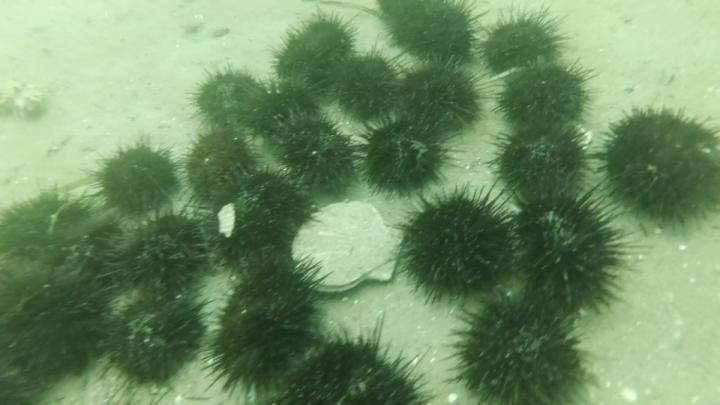echinus: (198, 249, 329, 404), (509, 188, 653, 323), (447, 287, 599, 405), (593, 105, 720, 234), (395, 183, 523, 309), (272, 316, 440, 405), (200, 160, 319, 281), (93, 293, 212, 404), (99, 207, 216, 309), (350, 104, 467, 203), (2, 288, 106, 385), (491, 118, 598, 210), (1, 186, 122, 263), (88, 129, 185, 223), (493, 56, 600, 135), (1, 248, 99, 334), (271, 110, 363, 200), (394, 53, 488, 139), (173, 127, 263, 210), (267, 9, 362, 86), (478, 4, 570, 79), (328, 40, 410, 123), (387, 1, 483, 66), (188, 60, 272, 134), (236, 78, 324, 140), (1, 348, 42, 405), (375, 1, 430, 27)
holothurian: (1, 76, 51, 123)
scallop: (292, 196, 407, 301)
